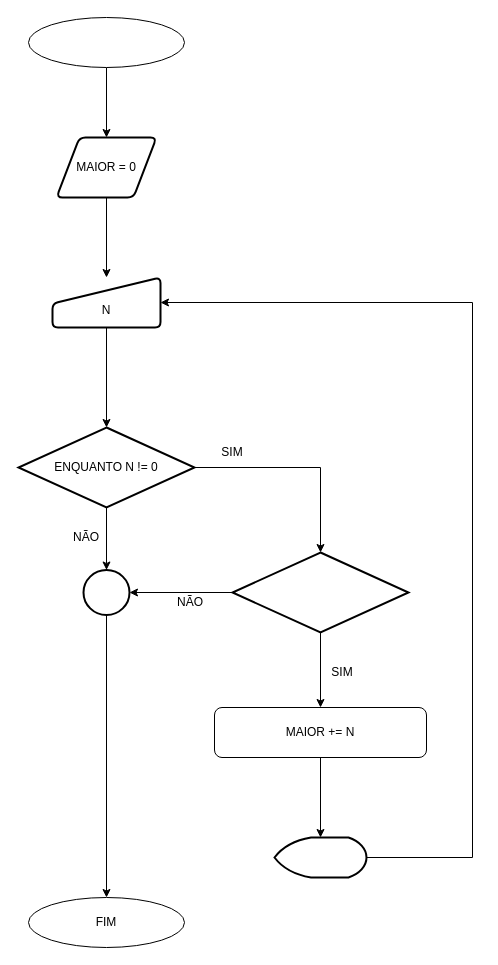
This 498x965 diagram has some shape labels left out. Here are the shapes that lost their labels. From the top down, the centre of each, then its label:
At [106,42]: "INÍCIO".
At [320,592]: "N > MAIOR".
At [320,857]: "MAIOR".
